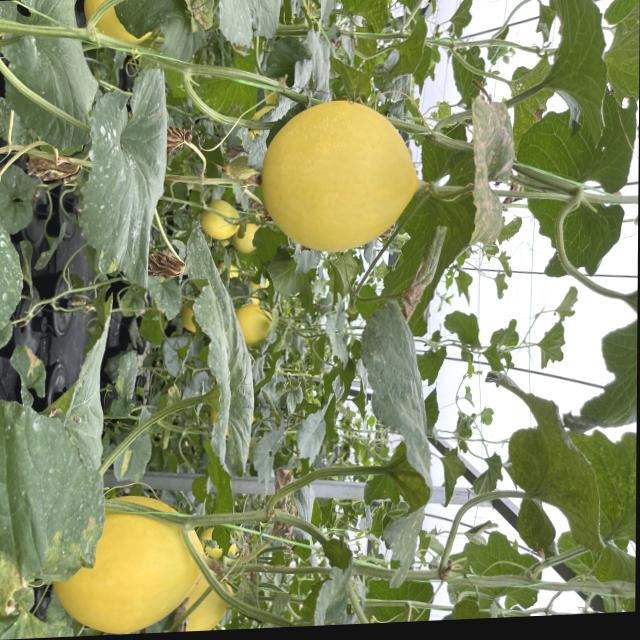alternaria leaf blight: (461, 96, 516, 252), (25, 152, 81, 186), (146, 246, 186, 280), (183, 0, 215, 39)
bacterial wilt: (400, 218, 446, 322)
downy mildew: (0, 396, 110, 640), (357, 285, 439, 589), (490, 358, 609, 554), (183, 229, 256, 464), (294, 560, 352, 627)
powdery mildew: (79, 68, 170, 290)
